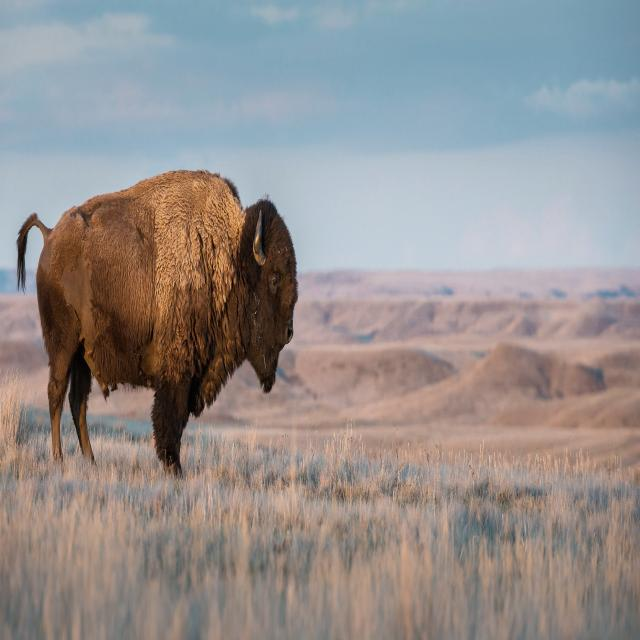bison: (17, 171, 298, 475)
